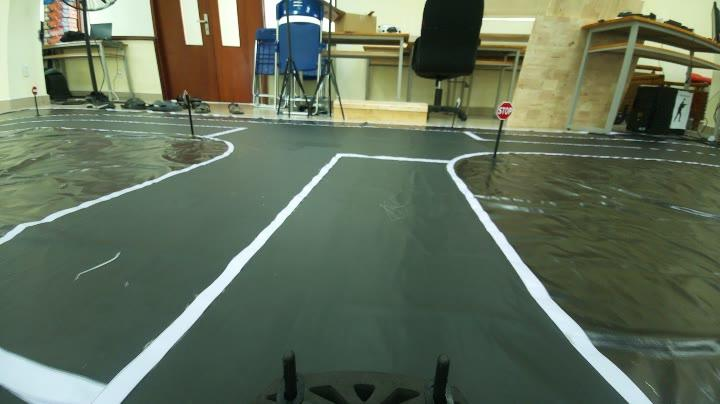stop: (493, 96, 521, 126)
